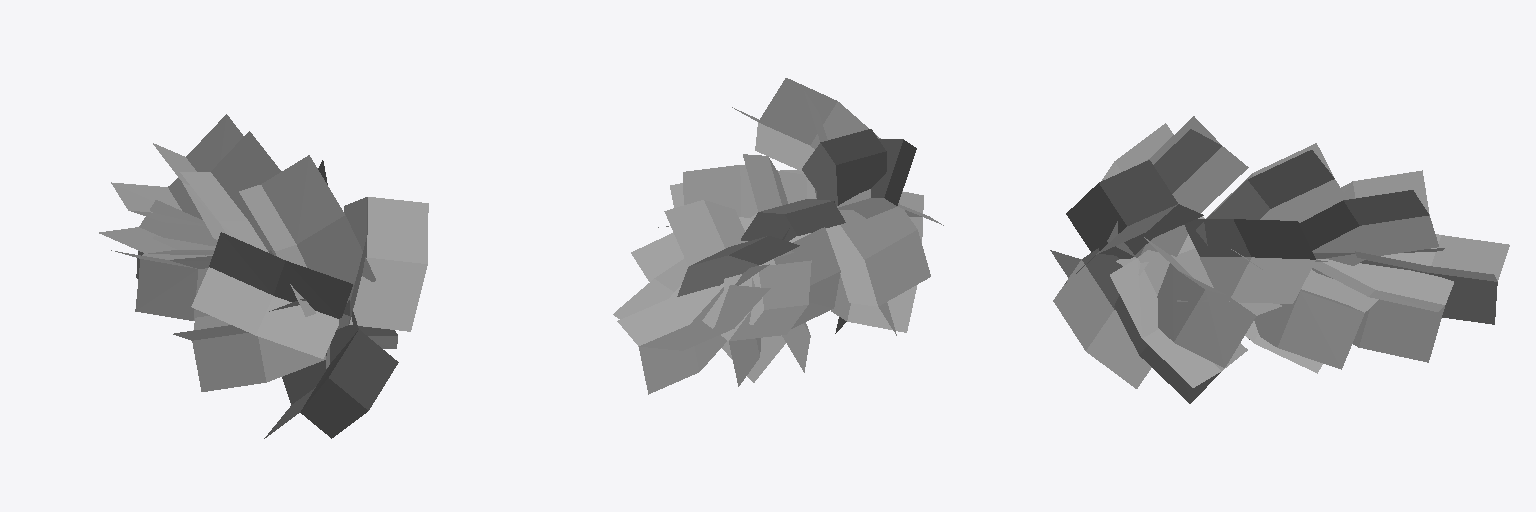
The model's file is baum_hd_pine_leaves.obj.
The picture shows the model from 3 angles: view 1: azimuth 30°, elevation 25°; view 2: azimuth 150°, elevation 25°; view 3: azimuth 270°, elevation 25°; orthographic projection.
Visible parts, largest first — view 1: baum_hd_pine; view 2: baum_hd_pine; view 3: baum_hd_pine.
Part boxes in pixels (x1,y1,x2,y2): baum_hd_pine: (99,114,428,438); baum_hd_pine: (613,78,943,394); baum_hd_pine: (1050,116,1509,403).
Bounding box in the file's own units: 10.1 × 10.21 × 16.19.